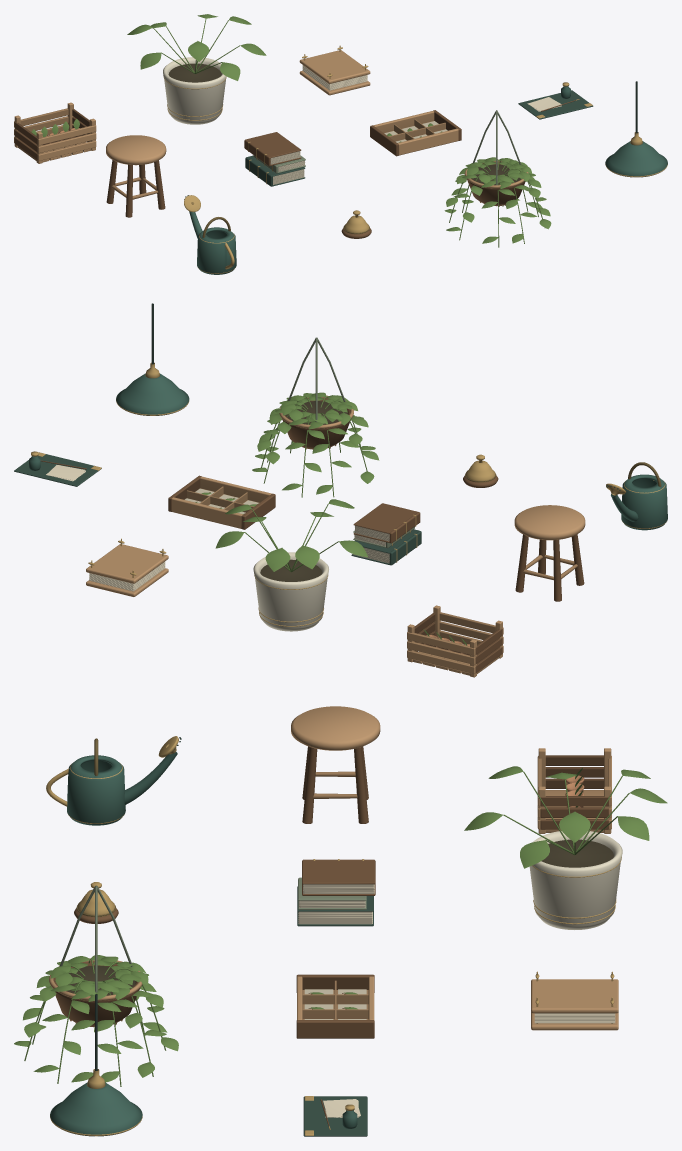
Rendered from conservatory-props.glb.
The picture shows the model from 3 angles, top to bottom: view 1: azimuth 30°, elevation 25°; view 2: azimuth 150°, elevation 25°; view 3: azimuth 270°, elevation 25°; orthographic projection. The views are drawn at different scales.
Visible parts, largest first — view 1: hanging-basket/leaf, ceramic-planter/porcelain, seed-crate/wood, specimen-tray/wood, ceramic-planter/leaf, garden-stool/wood, botanical-press/wood, watering-can/teal, pendant-lamp/teal, garden-stool/darkWood, books-stack/darkWood, writing-set/leather (+10 smaller); view 2: hanging-basket/leaf, seed-crate/wood, ceramic-planter/porcelain, specimen-tray/wood, garden-stool/wood, botanical-press/wood, watering-can/teal, ceramic-planter/leaf, pendant-lamp/teal, books-stack/darkWood, garden-stool/darkWood, seed-crate/darkWood (+8 smaller); view 3: hanging-basket/leaf, ceramic-planter/porcelain, watering-can/teal, ceramic-planter/leaf, botanical-press/wood, garden-stool/wood, pendant-lamp/teal, seed-crate/darkWood, specimen-tray/darkWood, books-stack/paper, books-stack/darkWood, specimen-tray/wood (+10 smaller).
Part boxes in pixels (x1=…): hanging-basket/leaf: x1=444, y1=157, x2=551, y2=247; ceramic-planter/porcelain: x1=163, y1=57, x2=226, y2=124; seed-crate/wood: x1=14, y1=102, x2=96, y2=163; specimen-tray/wood: x1=373, y1=111, x2=458, y2=155; ceramic-planter/leaf: x1=127, y1=14, x2=266, y2=80; garden-stool/wood: x1=106, y1=135, x2=166, y2=199; botanical-press/wood: x1=299, y1=50, x2=370, y2=95; watering-can/teal: x1=189, y1=211, x2=236, y2=274; pendant-lamp/teal: x1=605, y1=141, x2=667, y2=177; garden-stool/darkWood: x1=106, y1=160, x2=165, y2=217; books-stack/darkWood: x1=244, y1=132, x2=301, y2=166; writing-set/leather: x1=518, y1=90, x2=593, y2=119; hanging-basket/leaf: x1=252, y1=392, x2=379, y2=497; seed-crate/wood: x1=407, y1=605, x2=503, y2=677; ceramic-planter/porcelain: x1=253, y1=552, x2=328, y2=631; specimen-tray/wood: x1=172, y1=476, x2=271, y2=528; garden-stool/wood: x1=514, y1=505, x2=585, y2=580; botanical-press/wood: x1=86, y1=544, x2=168, y2=596; watering-can/teal: x1=611, y1=474, x2=667, y2=530; ceramic-planter/leaf: x1=215, y1=499, x2=367, y2=572; pendant-lamp/teal: x1=116, y1=373, x2=189, y2=415; books-stack/darkWood: x1=353, y1=503, x2=420, y2=543; garden-stool/darkWood: x1=515, y1=534, x2=584, y2=601; seed-crate/darkWood: x1=414, y1=613, x2=502, y2=672; hanging-basket/leaf: x1=14, y1=955, x2=178, y2=1086; ceramic-planter/porcelain: x1=529, y1=831, x2=622, y2=929; watering-can/teal: x1=67, y1=752, x2=177, y2=825; ceramic-planter/leaf: x1=464, y1=766, x2=667, y2=868; botanical-press/wood: x1=531, y1=979, x2=618, y2=1030; garden-stool/wood: x1=291, y1=706, x2=380, y2=798; pendant-lamp/teal: x1=50, y1=1082, x2=142, y2=1136; seed-crate/darkWood: x1=540, y1=755, x2=608, y2=829; specimen-tray/darkWood: x1=296, y1=974, x2=374, y2=1038; books-stack/paper: x1=298, y1=884, x2=374, y2=924; books-stack/darkWood: x1=302, y1=859, x2=375, y2=895; specimen-tray/wood: x1=297, y1=976, x2=374, y2=1019.
Bounding box in the file's own units: 5.1 × 1.22 × 4.1.
